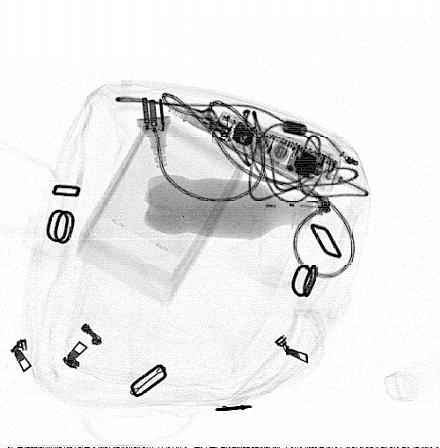Lighter: (259, 195, 333, 216)
